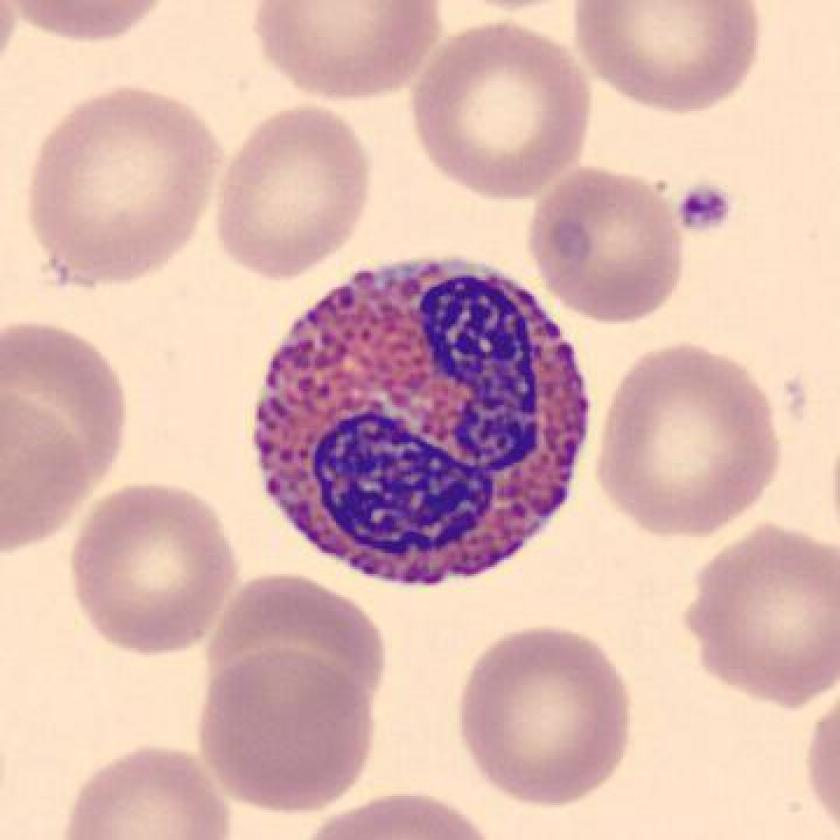eosinophil: (239, 242, 605, 605)
